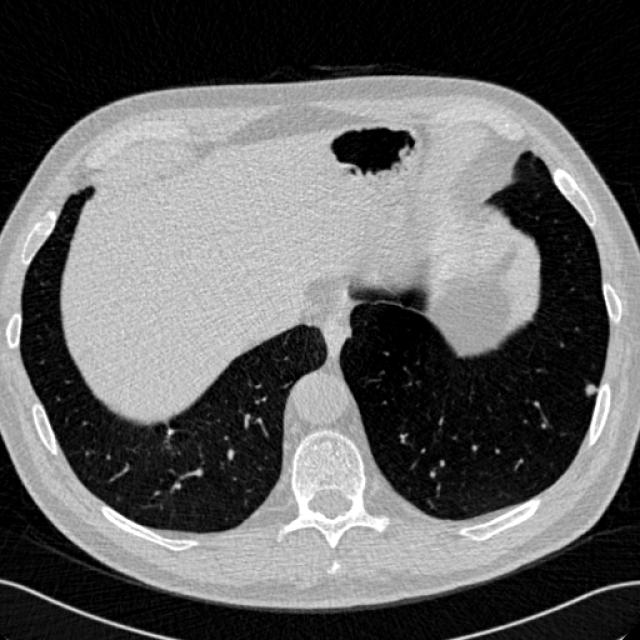nodule: (579, 378, 601, 400)
